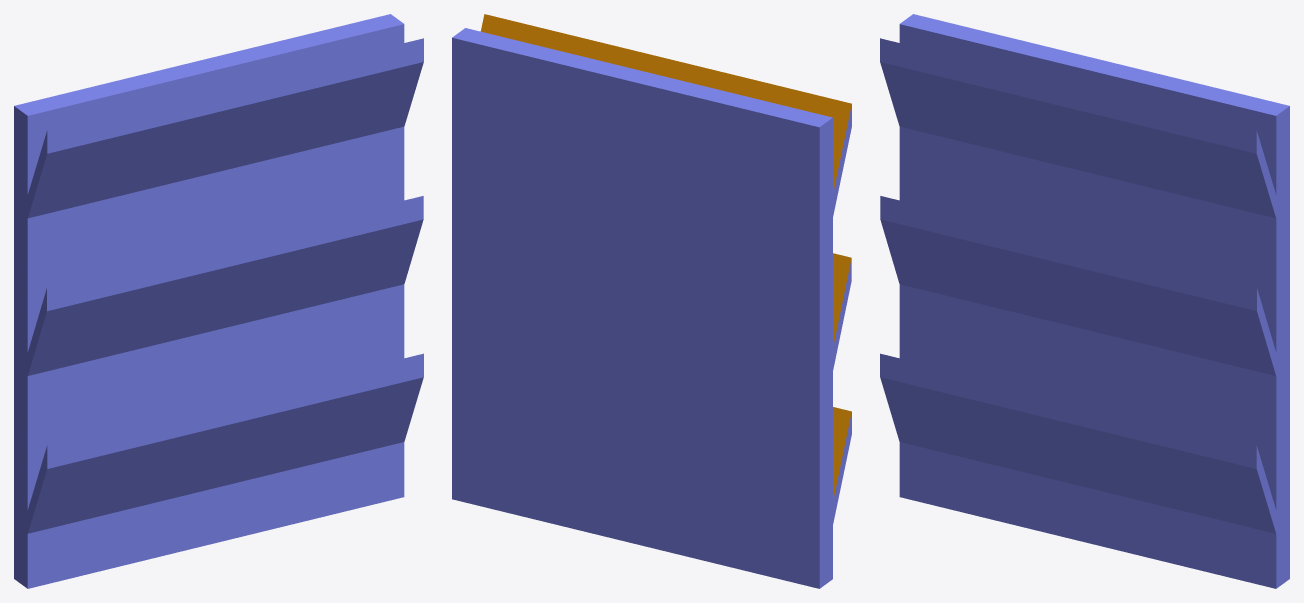
Rendered from shopShelf2.fbx.
3 views of the same model, side by side, from view 1: azimuth 30°, elevation 25°; view 2: azimuth 150°, elevation 25°; view 3: azimuth 330°, elevation 25° (orthographic). The views are drawn at different scales.
Visible parts, largest first — view 1: wallShelf.002; view 2: wallShelf.002; view 3: wallShelf.002.
Boxes of the visible parts, x1,y1,x2,y2 form: wallShelf.002: (14, 14, 423, 588); wallShelf.002: (452, 14, 851, 588); wallShelf.002: (880, 14, 1289, 588).
Bounding box in the file's own units: 0.5 × 0.6 × 0.0763.
